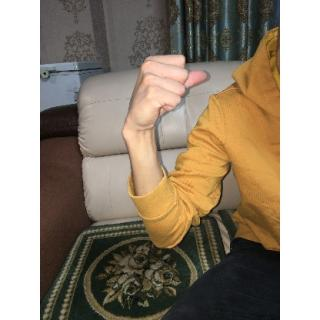WAW: (120, 50, 213, 133)
